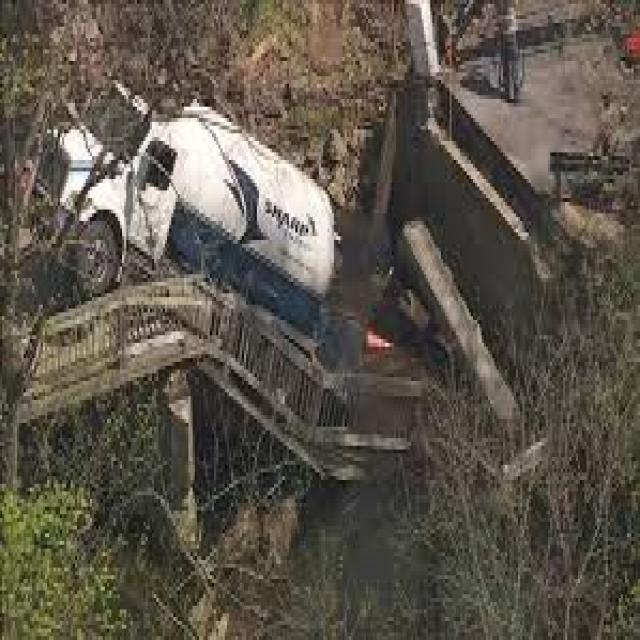bridge collapse: (88, 69, 640, 640)
